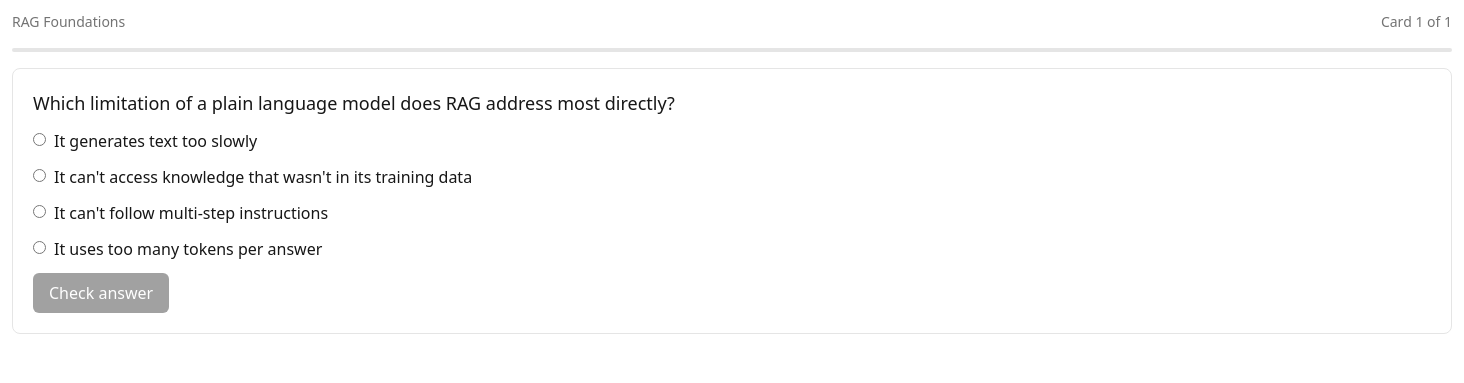
review card: select an option and reveal the answer › shows an error instead of failing silently when the server can't be reached
Click the radio button labelled "It can't access knowledge that wasn't in its training data" at coordinates (40, 176), box [33, 169, 46, 182]
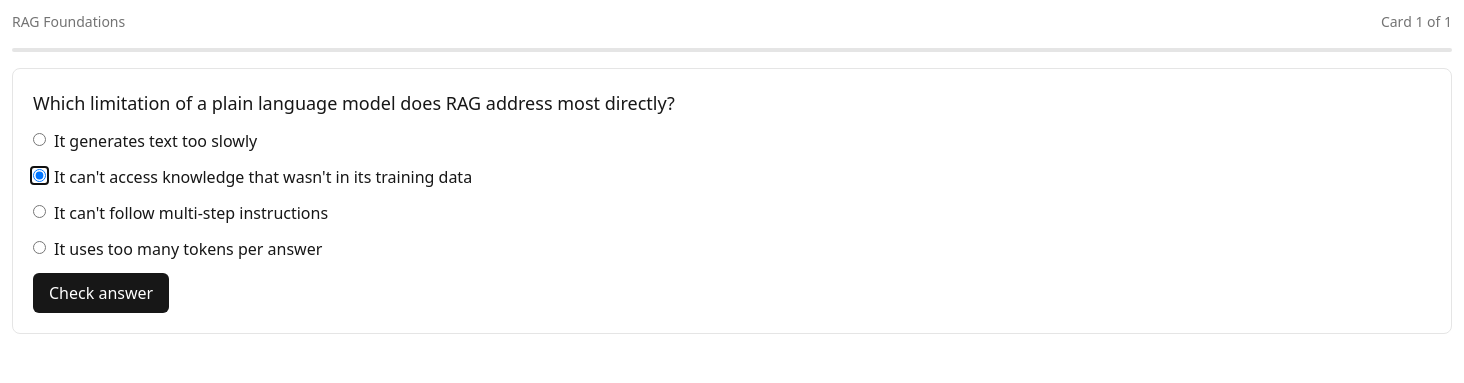
Click the button "Check answer" at coordinates (101, 293), box [33, 273, 169, 313]
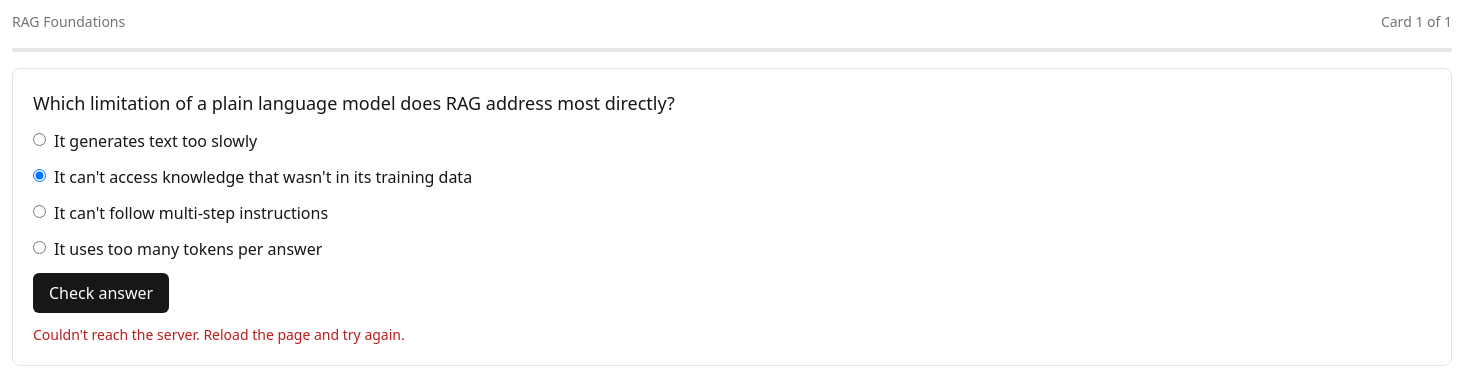
Expected: the button "Check answer" is enabled, [33, 273, 169, 313]
Expected: the message shows "Couldn't reach the server", [33, 325, 405, 344]
